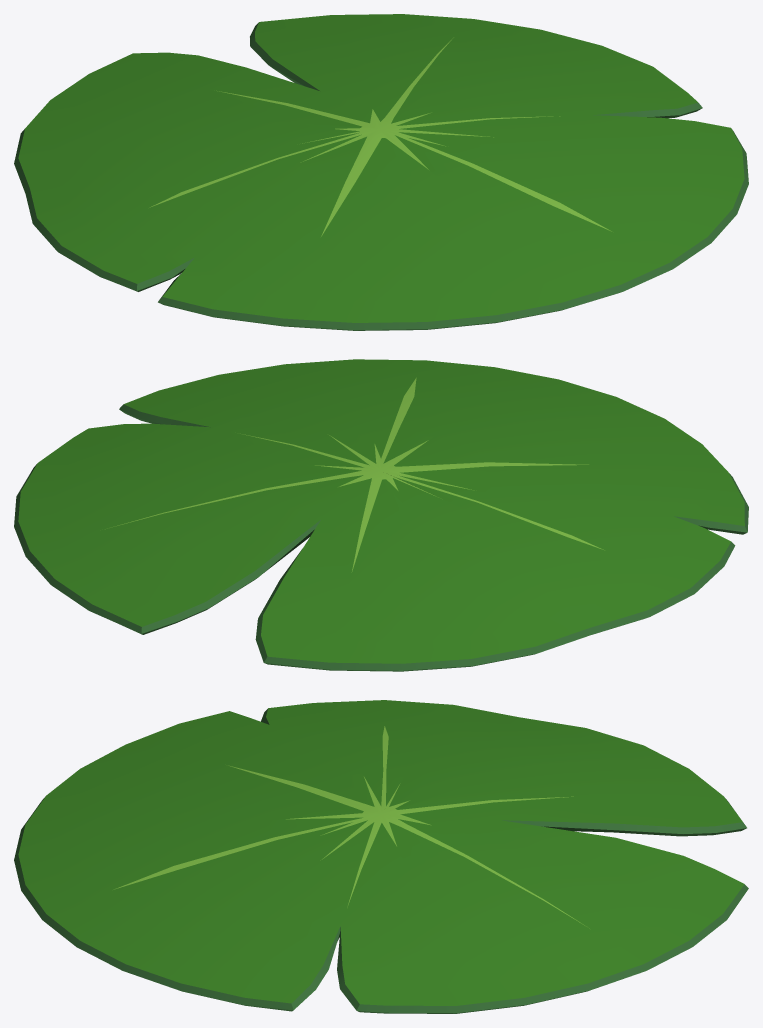
Rendered from PF_LilyPad.glb.
The picture shows the model from 3 angles, top to bottom: view 1: azimuth 30°, elevation 25°; view 2: azimuth 150°, elevation 25°; view 3: azimuth 270°, elevation 25°; orthographic projection.
Visible parts, largest first — view 1: PF_LilyPad; view 2: PF_LilyPad; view 3: PF_LilyPad.
Part boxes in pixels (x1,y1,x2,y2): PF_LilyPad: (14,14,748,330); PF_LilyPad: (14,359,748,671); PF_LilyPad: (14,700,748,1013).
Size of the model in its own units: 1.33 by 0.0985 by 1.33.
1 material, 1 textured.
